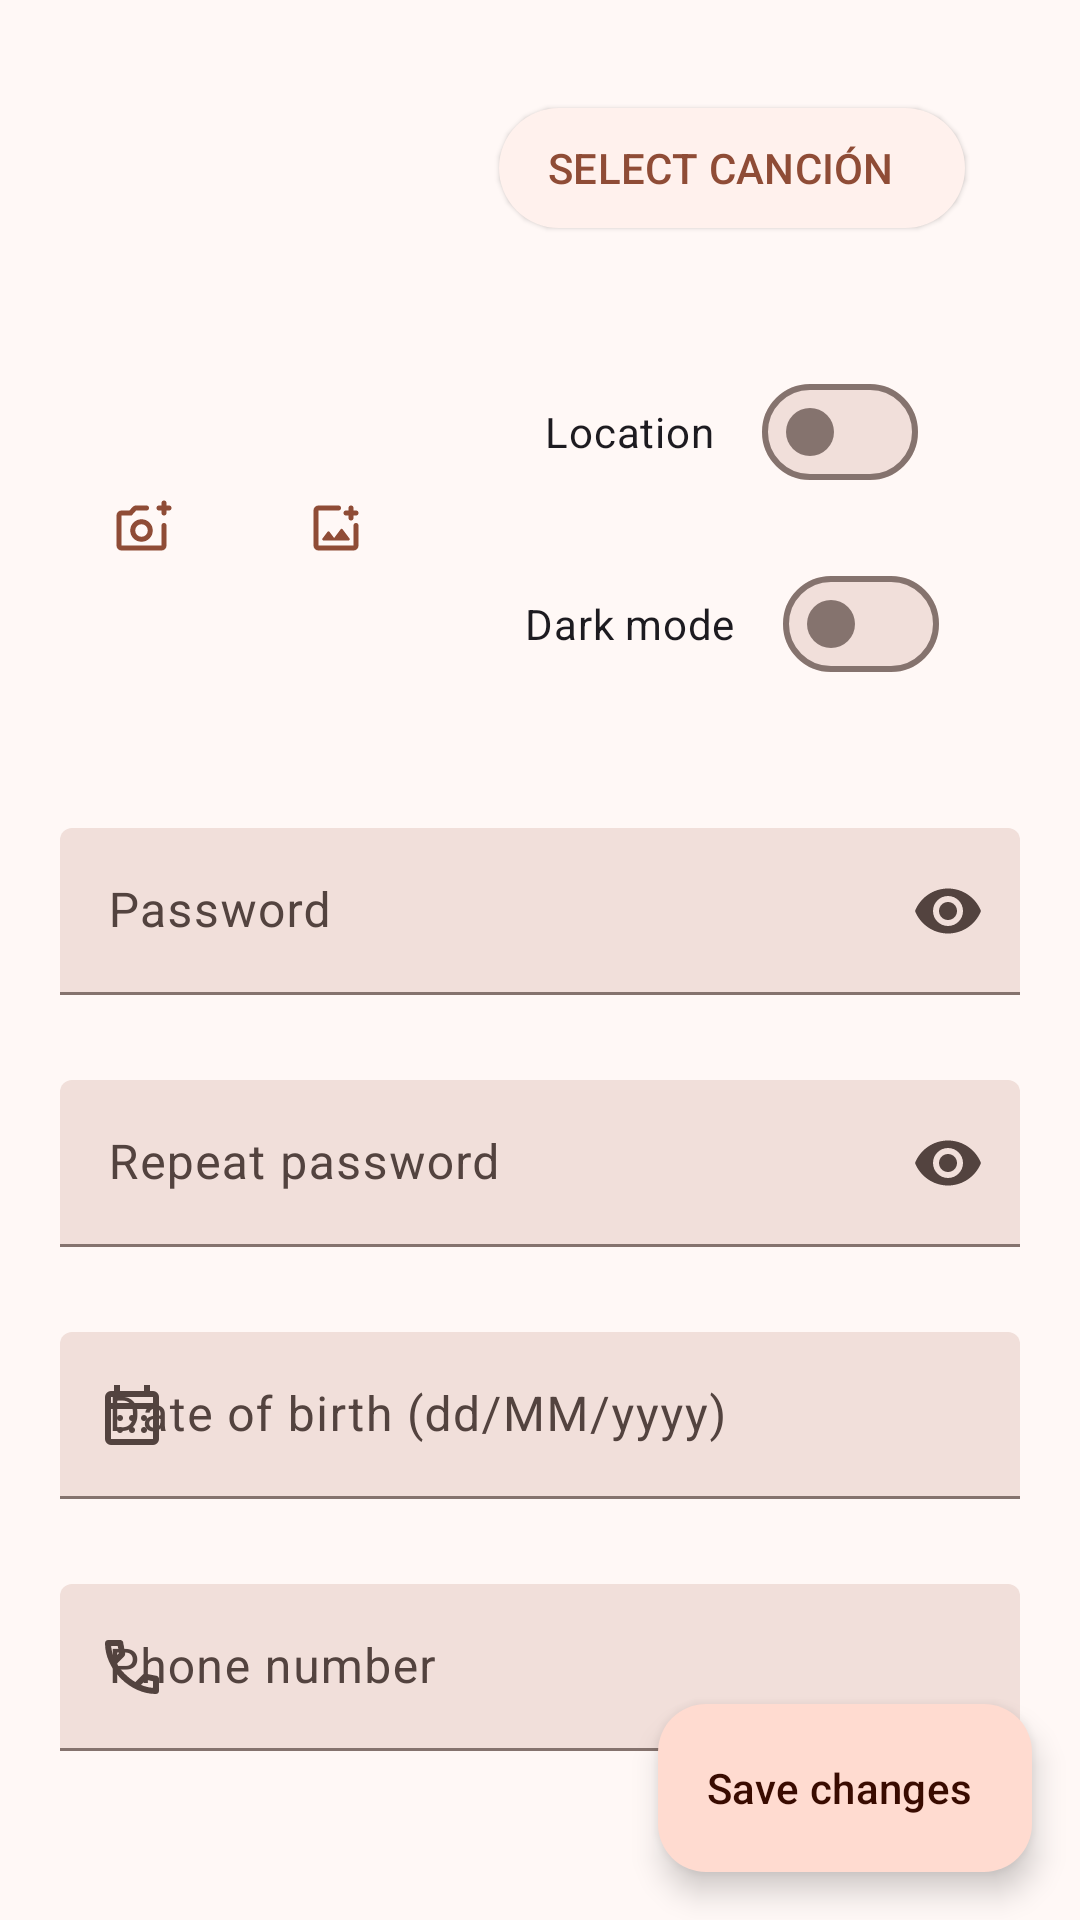

Screen size 1080w x 1920h. Icon name, then its center in pixels as (x,y):
add photo: (144,525)
add photo alternate: (336,528)
